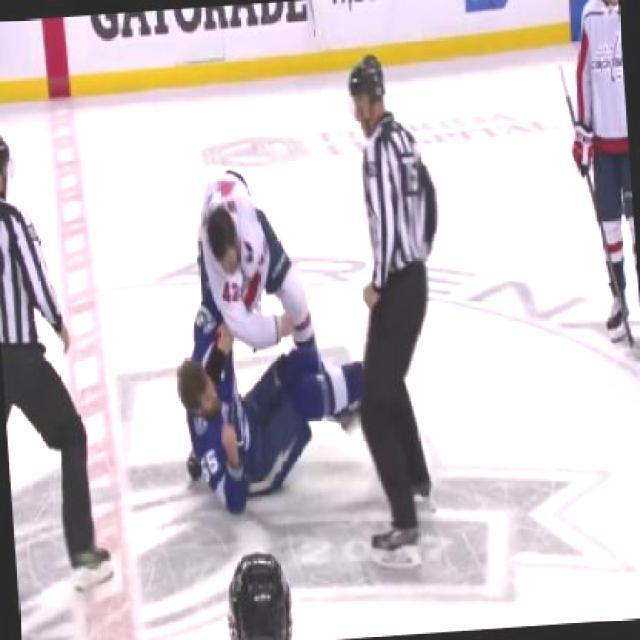fight: (162, 161, 344, 524)
non-fight: (337, 48, 463, 564), (0, 118, 95, 596), (562, 0, 638, 357)
